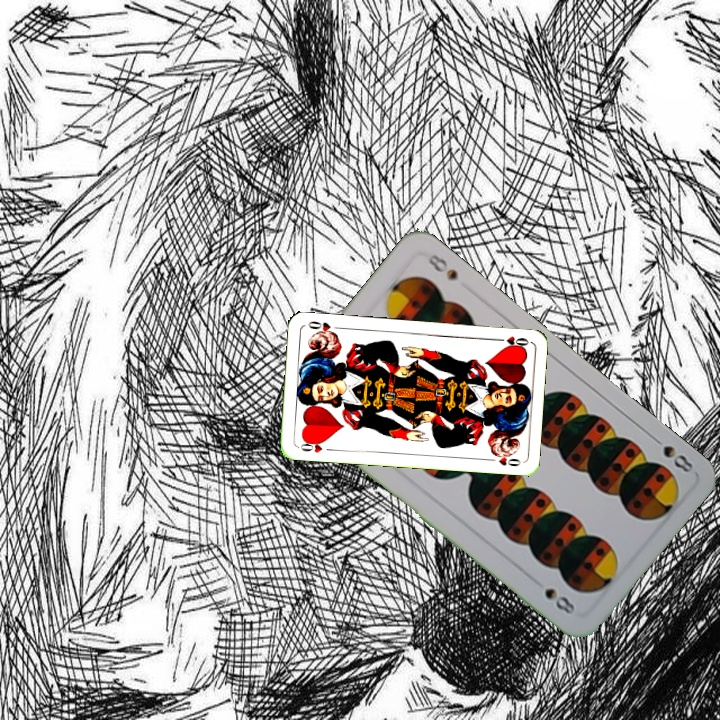HO: (294, 436, 335, 455), (491, 332, 531, 350)
S8: (647, 431, 696, 476)
